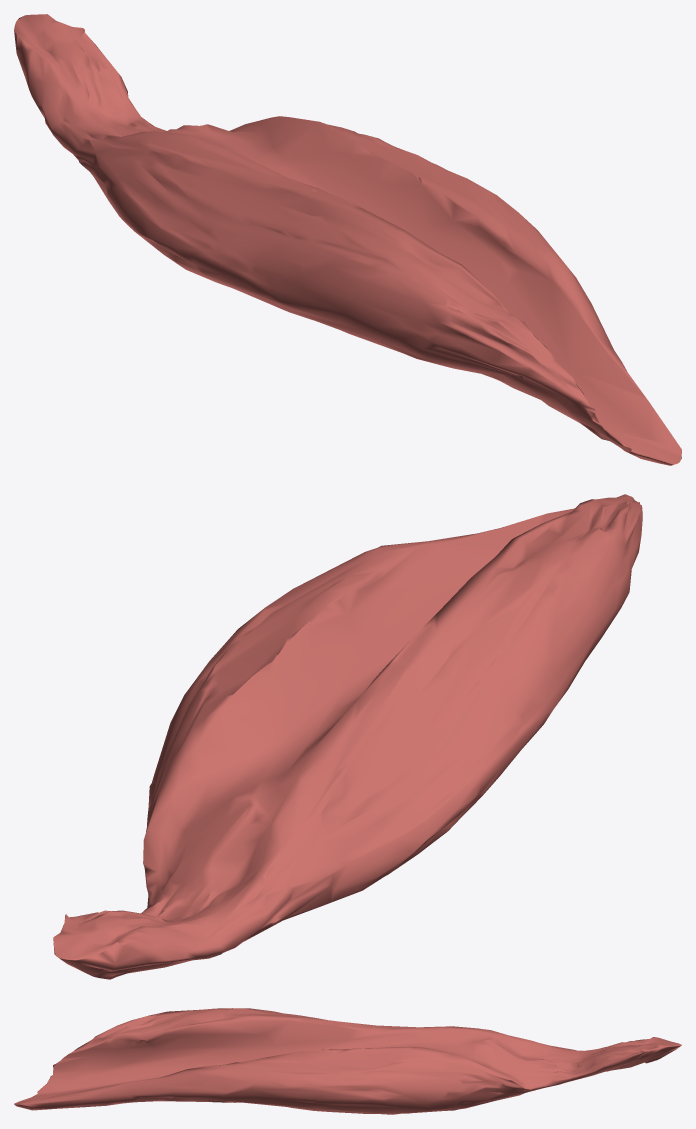
3 renders of one model, top to bottom at view 1: azimuth 30°, elevation 25°; view 2: azimuth 150°, elevation 25°; view 3: azimuth 270°, elevation 25°, orthographic. The views are drawn at different scales.
Parts seen in each view (by area): view 1: 右侧肱肌; view 2: 右侧肱肌; view 3: 右侧肱肌.
Boxes of the visible parts, box(x1,y1,x2,y2) form: 右侧肱肌: box(14, 14, 681, 465); 右侧肱肌: box(53, 494, 642, 979); 右侧肱肌: box(14, 1008, 681, 1114).
Size of the model in its own units: 0.0897 by 0.04 by 0.3423.
